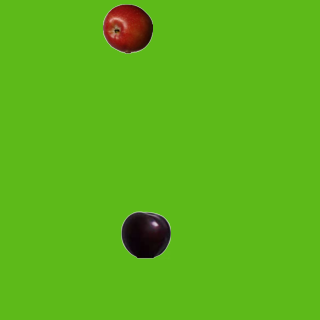Apple Braeburn: (102, 3, 152, 53)
Cherry Wax Black: (120, 209, 170, 259)
